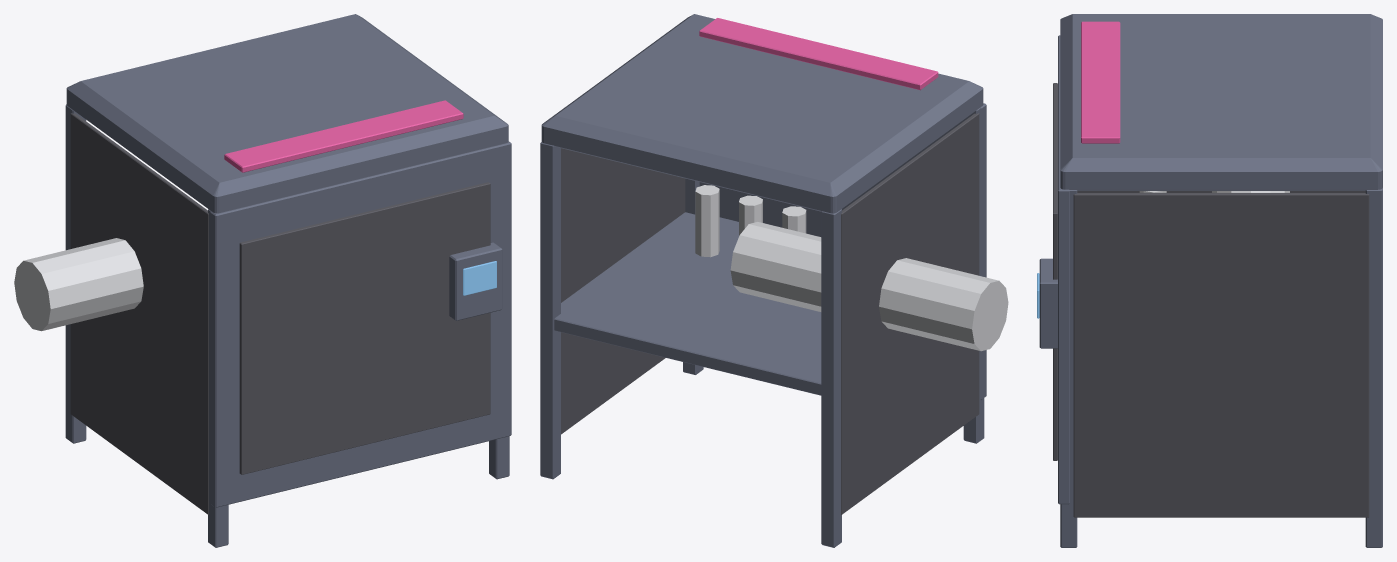
File: bowling-alley-and-pool-hall-pinsetter-housing-72f2c440__33841.glb
3 views of the same model, side by side, from view 1: azimuth 30°, elevation 25°; view 2: azimuth 150°, elevation 25°; view 3: azimuth 270°, elevation 25° (orthographic). The views are drawn at different scales.
Parts seen in each view (by area): view 1: pinsetter-housing, setter-cowl/frame, setter-cowl/accent; view 2: pinsetter-housing, setter-cowl/frame, setter-cowl/accent; view 3: pinsetter-housing, setter-cowl/frame, setter-cowl/accent.
Boxes of the visible parts, x1,y1,x2,y2 form: pinsetter-housing: [14, 104, 511, 547]; setter-cowl/frame: [66, 14, 508, 213]; setter-cowl/accent: [224, 100, 463, 172]; pinsetter-housing: [540, 103, 1008, 547]; setter-cowl/frame: [541, 14, 983, 213]; setter-cowl/accent: [699, 18, 938, 90]; pinsetter-housing: [1037, 35, 1382, 547]; setter-cowl/frame: [1060, 14, 1382, 190]; setter-cowl/accent: [1081, 21, 1120, 143].
Size of the model in its own units: 1.98 by 1.77 by 1.42.
